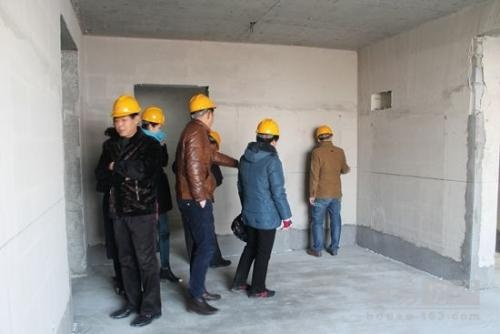yellow: (110, 92, 142, 138), (187, 91, 217, 127), (254, 116, 282, 151), (140, 103, 167, 137), (313, 123, 335, 146)
